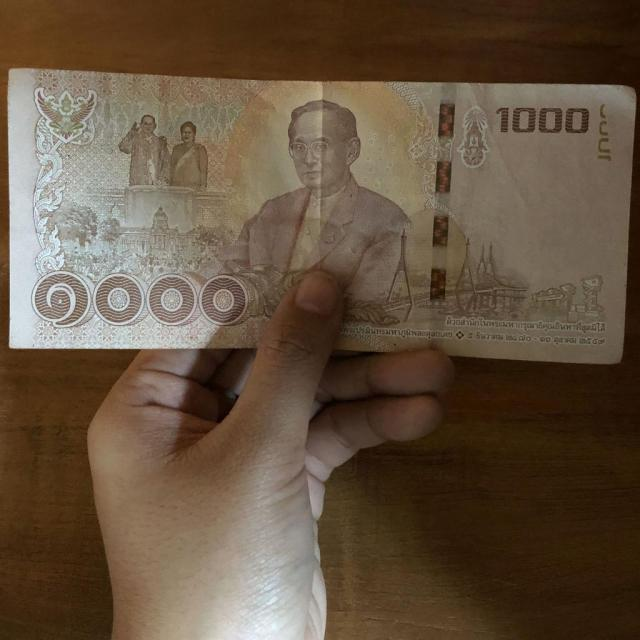THAI1000: (6, 69, 636, 366)
